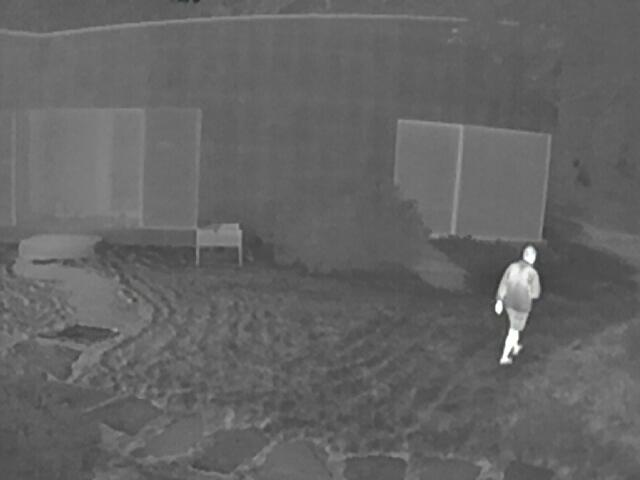person: (494, 244, 541, 366)
